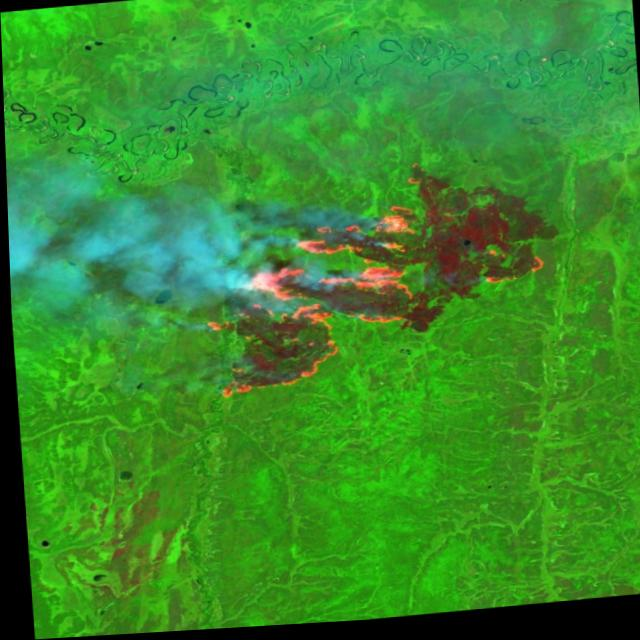fire: (194, 204, 426, 402), (477, 245, 548, 293), (401, 162, 431, 194)
